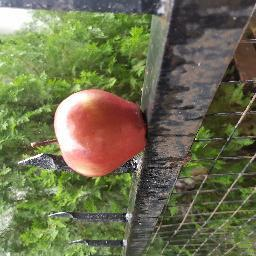Good_apple: (50, 87, 146, 184)
